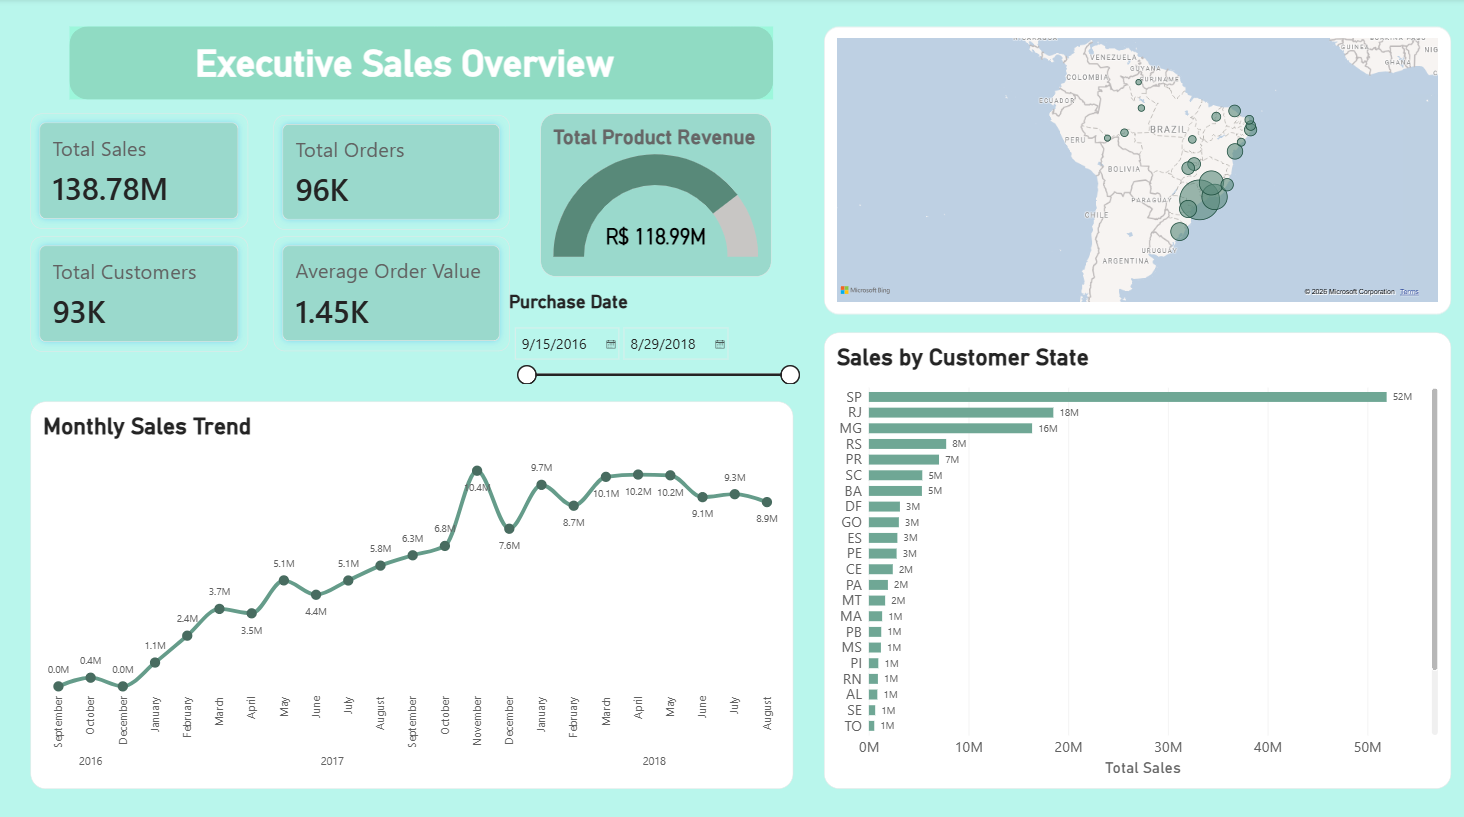

Layout of this report page (visuals, bound fields, positions):
{"tool":"powerbi","page":{"name":"Sales Overview","canvas":[1920,1080],"ordinal":0},"visuals":[{"type":"shape","box":[93,37.2,919.9,95.4],"z":0},{"type":"cardVisual","fields":{"Data":["public sales_orders_vw.Total Orders"]},"box":[358.9,152.2,308.9,149.9],"z":1000},{"type":"cardVisual","fields":{"Data":["public sales_orders_vw.Total Customers"]},"box":[41.7,310.9,284.5,150.6],"z":2000},{"type":"cardVisual","fields":{"Data":["public sales_orders_vw.Average Order Value"]},"box":[358.9,311.2,308.9,149.9],"z":4000},{"type":"lineChart","title":"Monthly Sales Trend","fields":{"Category":["public monthly_sales_vw.purchase_month.Variation.Date Hierarchy.Year","public monthly_sales_vw.purchase_month.Variation.Date Hierarchy.Month"],"Y":["Sum(public monthly_sales_vw.total_sales)"]},"box":[40.8,527.8,997.1,506.5],"z":5000},{"type":"clusteredBarChart","title":"Sales by Customer State","fields":{"Category":["public sales_orders_vw.customer_state"],"Y":["Sum(public sales_orders_vw.total_sales)"]},"box":[1079.4,436.4,820.1,596.9],"z":6000},{"type":"slicer","title":"Purchase Date","fields":{"Values":["public sales_orders_vw.purchase_date"]},"box":[667.6,382.5,383.9,122.7],"z":7000},{"type":"textbox","box":[256.5,57.7,674.7,113.4],"z":8000},{"type":"map","title":"Customer State","fields":{"Category":["public sales_orders_vw.customer_state"],"Size":["Sum(public sales_orders_vw.total_sales)"]},"box":[1079.4,37.5,820.1,376.6],"z":9000},{"type":"cardVisual","fields":{"Data":["public sales_orders_vw.Total Sales"]},"box":[40.8,150.8,284.5,150.6],"z":10000},{"type":"gauge","fields":{"Y":["public sales_orders_vw.Total Product Revenue"]},"box":[708.5,150.8,302.1,213.5],"z":11000}]}

Visuals, with their boxes in screenshot pixels (x1, y1, x2, y2), scaled from the page's 1920x1080 canvas onto the 1464x817 screenshot:
shape: region(71, 28, 772, 100)
cardVisual - public sales_orders_vw.Total Orders: region(274, 115, 509, 229)
cardVisual - public sales_orders_vw.Total Customers: region(32, 235, 249, 349)
cardVisual - public sales_orders_vw.Average Order Value: region(274, 235, 509, 349)
"Monthly Sales Trend" lineChart: region(31, 399, 791, 782)
"Sales by Customer State" clusteredBarChart: region(823, 330, 1448, 782)
"Purchase Date" slicer: region(509, 289, 802, 382)
textbox: region(196, 44, 710, 129)
"Customer State" map: region(823, 28, 1448, 313)
cardVisual - public sales_orders_vw.Total Sales: region(31, 114, 248, 228)
gauge - public sales_orders_vw.Total Product Revenue: region(540, 114, 771, 276)
